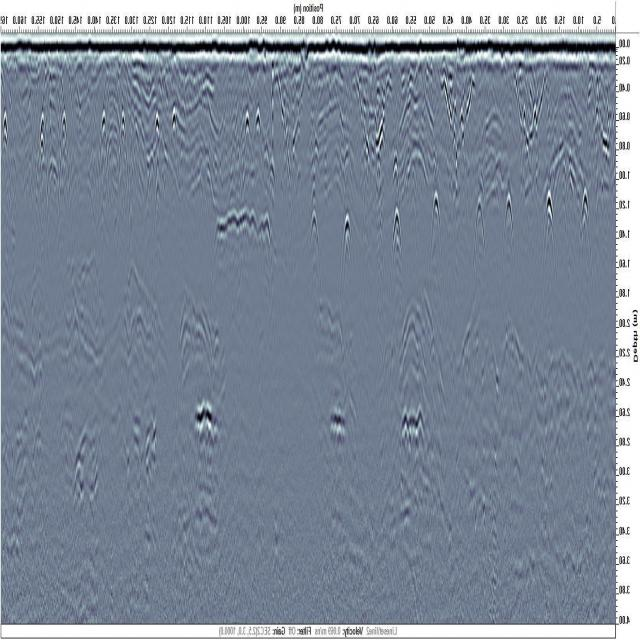hyperbola: (537, 183, 563, 257), (384, 204, 410, 268), (573, 184, 596, 256), (468, 185, 492, 254), (336, 210, 359, 270), (426, 187, 446, 253), (31, 108, 53, 166), (500, 182, 519, 247), (95, 102, 114, 166), (54, 104, 75, 158), (251, 100, 266, 159), (240, 98, 253, 161), (168, 103, 182, 159), (151, 101, 164, 157)
